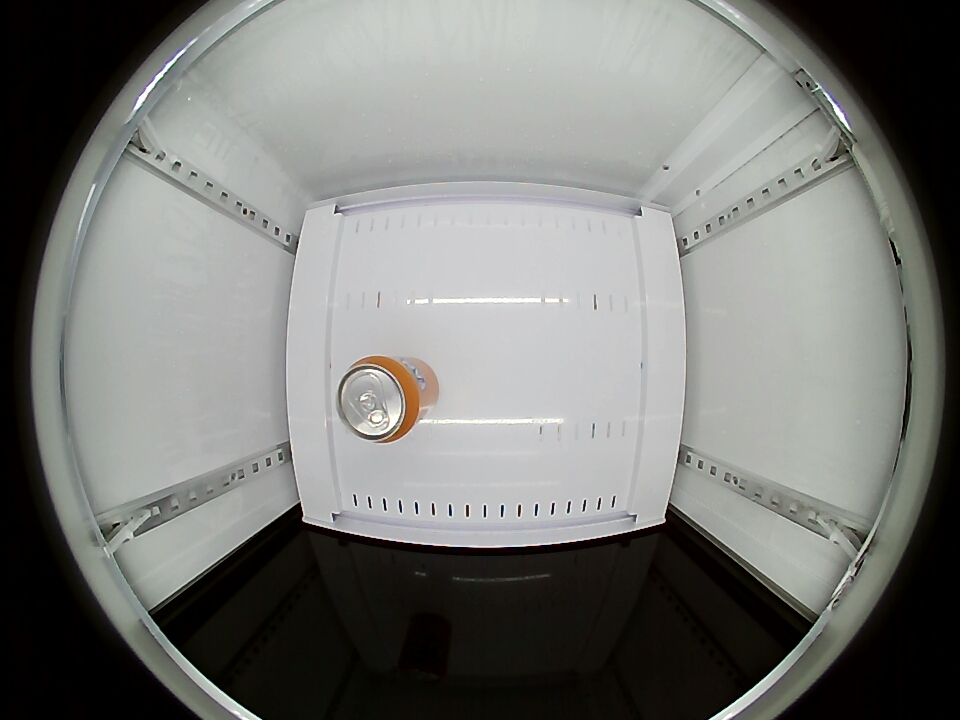fenda: (336, 355, 425, 444)
